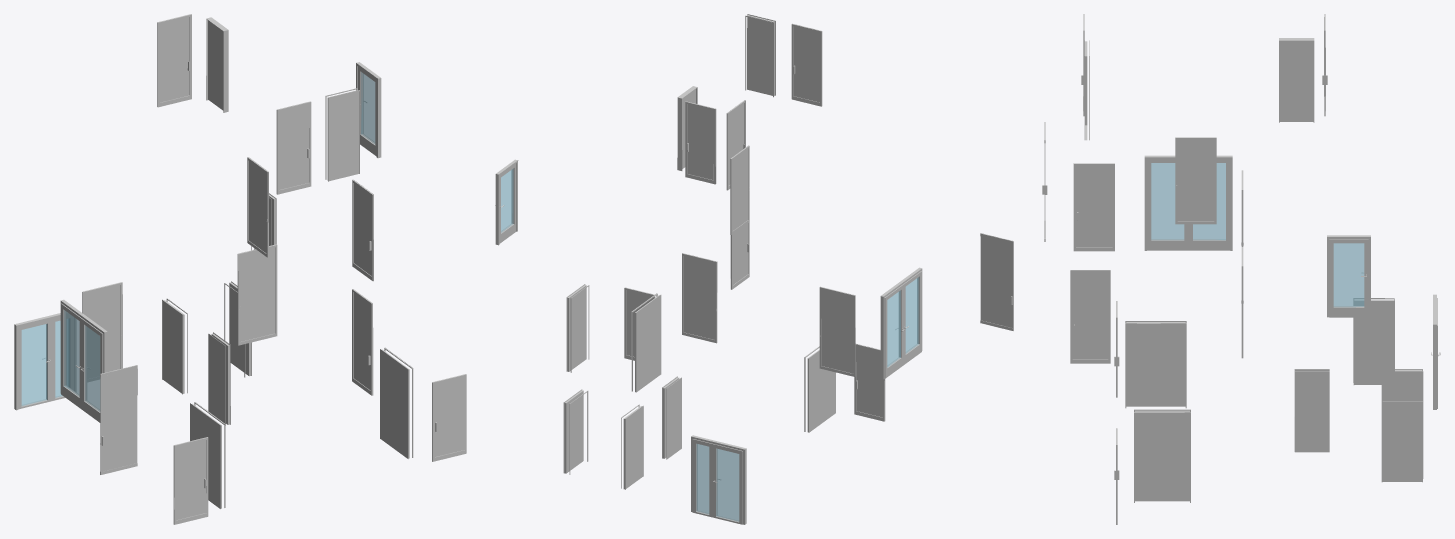
Rendered from Door.obj.
The picture shows the model from 3 angles, left to right: view 1: azimuth 30°, elevation 25°; view 2: azimuth 150°, elevation 25°; view 3: azimuth 270°, elevation 25°; orthographic projection. The views are drawn at different scales.
Parts seen in each view (by area): view 1: object_4, object_38, object_84, Bad_faces, object_11, object_34, object_8, object_42, object_69, object_73, object_51, object_65 (+24 smaller); view 2: object_4, Bad_faces, object_34, object_38, object_84, object_11, object_8, object_42, object_69, object_65, object_53, object_51 (+20 smaller); view 3: object_84, object_30, object_76, object_45, object_15, object_26, object_87, object_90, object_80, object_81, Bad_faces, object_65 (+10 smaller).
Part boxes in pixels (box(x1,y1,x2,y2)): object_4: box(100, 365, 137, 471); object_38: box(238, 247, 275, 341); object_84: box(380, 349, 409, 458); Bad_faces: box(64, 63, 412, 405); object_11: box(328, 90, 358, 181); object_34: box(85, 285, 120, 378); object_8: box(276, 102, 309, 189); object_42: box(160, 17, 189, 102); object_69: box(173, 438, 206, 519); object_73: box(434, 377, 464, 456); object_51: box(21, 324, 47, 405); object_65: box(61, 303, 103, 422); object_4: box(980, 236, 1013, 330); Bad_faces: box(498, 14, 900, 366); object_34: box(821, 289, 855, 376); object_38: box(684, 256, 717, 339); object_84: box(635, 295, 660, 392); object_11: box(747, 15, 774, 95); object_8: box(793, 25, 822, 102); object_42: box(687, 104, 715, 183); object_69: box(856, 344, 882, 417); object_65: box(884, 271, 921, 378); object_53: box(692, 439, 742, 524); object_51: box(716, 448, 739, 521); object_84: box(1135, 410, 1189, 501); object_30: box(1070, 270, 1110, 363); object_76: box(1382, 401, 1422, 481); object_45: box(1354, 300, 1393, 384); object_15: box(1175, 137, 1214, 220); object_26: box(1076, 166, 1112, 246); object_87: box(1294, 371, 1329, 452); object_90: box(1279, 41, 1313, 121); object_80: box(1126, 322, 1155, 406); object_81: box(1156, 322, 1185, 406); Bad_faces: box(1073, 17, 1325, 412); object_65: box(1147, 159, 1230, 250).
Size of the model in its own units: 37.43 by 34.23 by 30.15.
